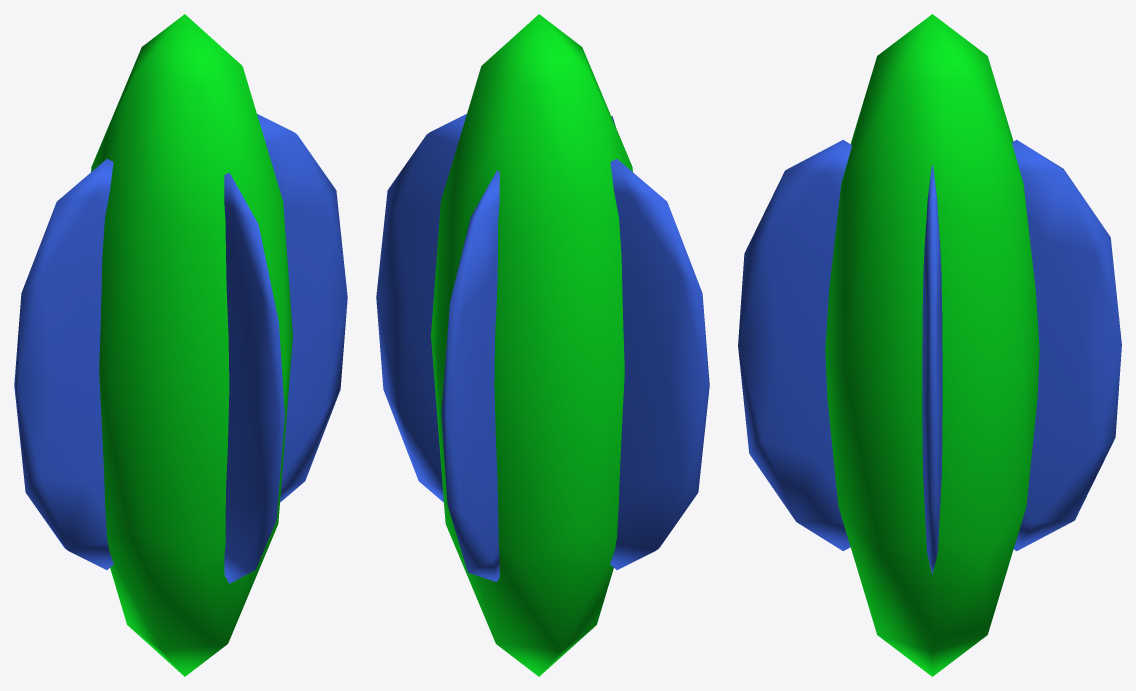
The picture shows the model from 3 angles, left to right: view 1: azimuth 30°, elevation 25°; view 2: azimuth 150°, elevation 25°; view 3: azimuth 270°, elevation 25°; orthographic projection.
Parts seen in each view (by area): view 1: Icosphere, Icosphere.001, Icosphere.004, Icosphere.002; view 2: Icosphere, Icosphere.001, Icosphere.002, Icosphere.003; view 3: Icosphere, Icosphere.004, Icosphere.003, Icosphere.002.
Boxes of the visible parts, <box> form: Icosphere: <box>91,14,292,676</box>; Icosphere.001: <box>14,159,113,569</box>; Icosphere.004: <box>224,172,284,583</box>; Icosphere.002: <box>257,114,347,502</box>; Icosphere: <box>431,14,632,676</box>; Icosphere.001: <box>610,159,709,569</box>; Icosphere.002: <box>376,114,466,502</box>; Icosphere.003: <box>441,170,499,581</box>; Icosphere: <box>825,14,1039,676</box>; Icosphere.004: <box>738,140,851,551</box>; Icosphere.003: <box>1012,139,1121,550</box>; Icosphere.002: <box>922,164,942,574</box>.
Size of the model in its own units: 0.1724 by 0.331 by 0.1736.
